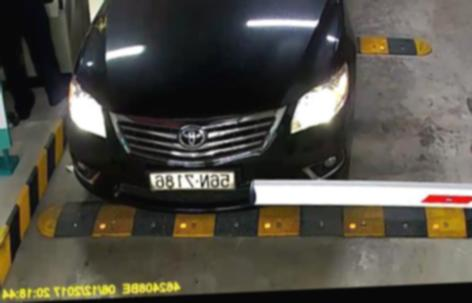License_Plate: (145, 166, 239, 197)
